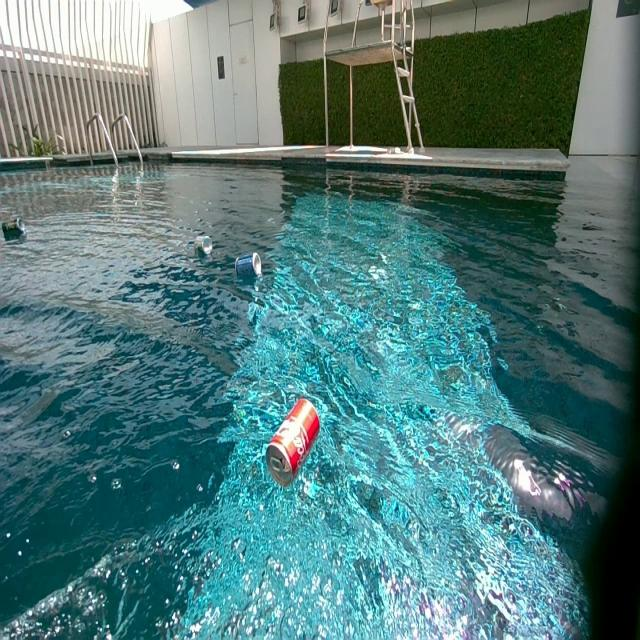Cans: (266, 397, 321, 483), (235, 252, 262, 281), (1, 217, 24, 236), (196, 237, 213, 256)
